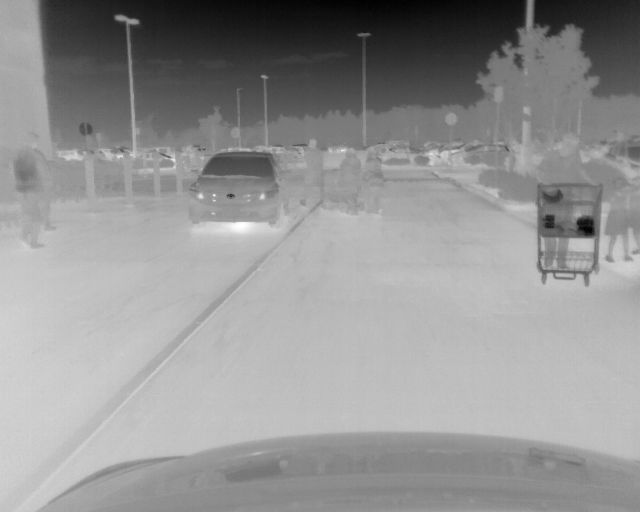car: (185, 151, 288, 226)
people: (536, 136, 582, 271), (12, 131, 47, 249), (604, 176, 632, 265), (39, 137, 60, 232), (300, 141, 327, 210), (338, 148, 364, 215), (364, 152, 387, 216), (631, 179, 640, 255)
